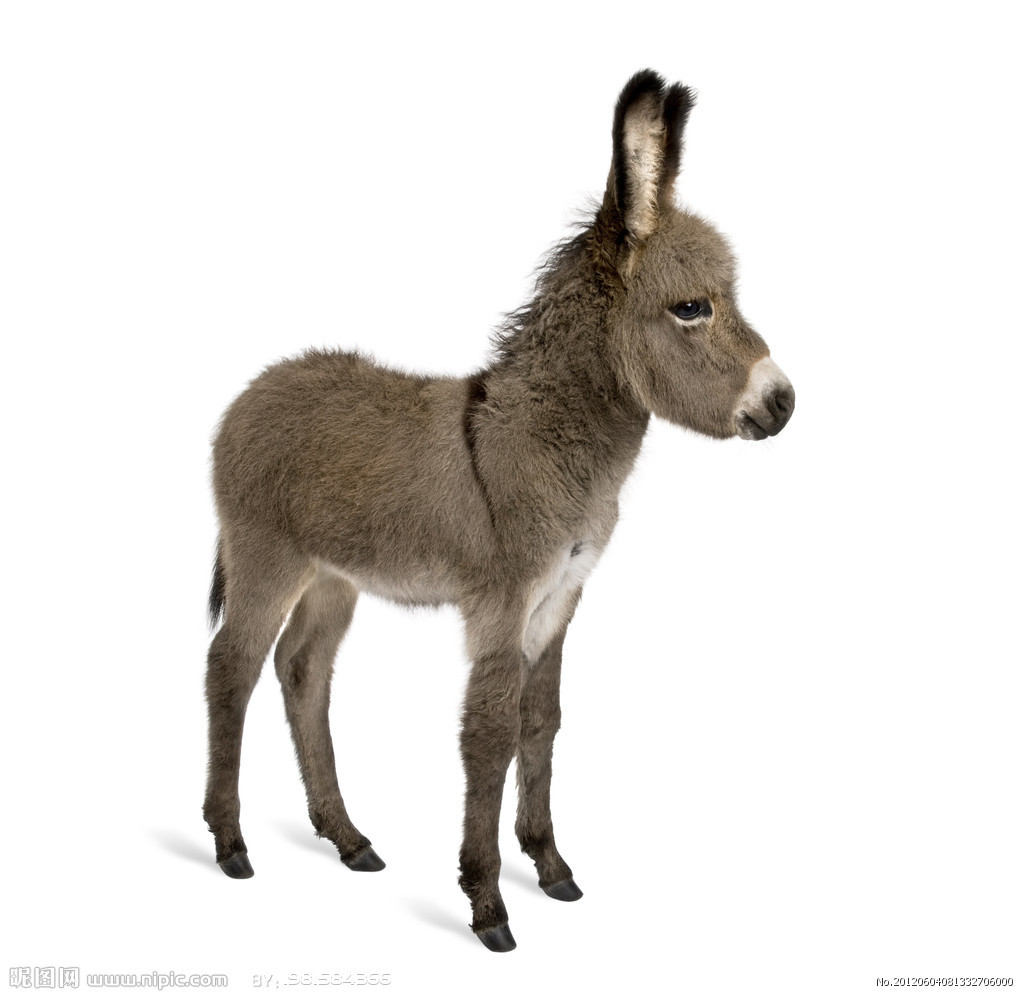background: (183, 71, 801, 955)
